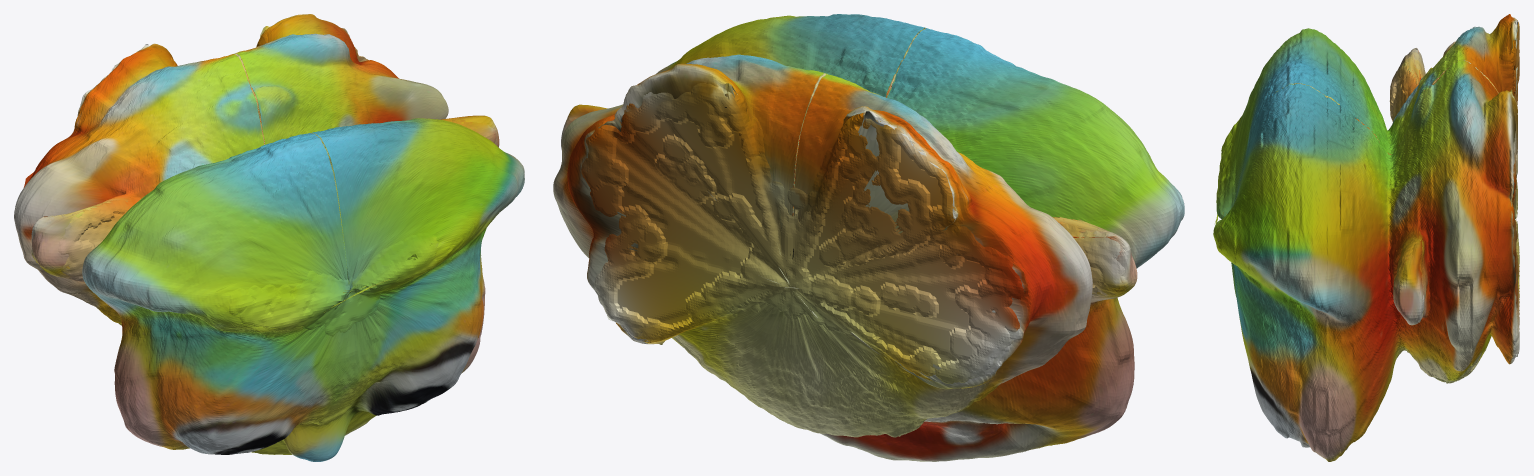
File: volume2_mesh.glb
3 views of the same model, side by side, from view 1: azimuth 30°, elevation 25°; view 2: azimuth 150°, elevation 25°; view 3: azimuth 270°, elevation 25° (orthographic). The views are drawn at different scales.
Visible parts, largest first — view 1: ipn, fill; view 2: ipn, fill; view 3: ipn, fill.
Part boxes in pixels (x1=…): ipn: x1=14, y1=14, x2=524, y2=461; fill: x1=29, y1=29, x2=496, y2=337; ipn: x1=553, y1=14, x2=1184, y2=461; fill: x1=581, y1=83, x2=1128, y2=383; ipn: x1=1215, y1=14, x2=1517, y2=461; fill: x1=1213, y1=17, x2=1519, y2=357.
Size of the model in its own units: 1.97 by 1.49 by 1.1.
2 materials, 1 textured.
